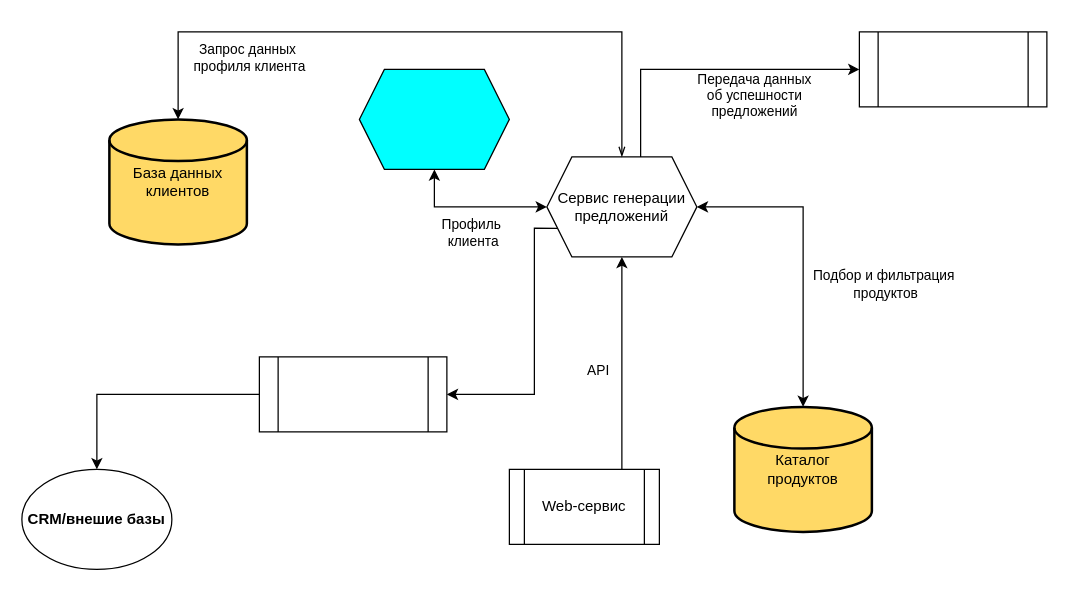
This 1069x591 diagram has some shape labels left out. The centre of each missing label's shape, as x and y in pixels:
"BI/Аналитика" belongs at (952,69).
"Интеграционный модуль" belongs at (352,394).
"Сервис ИИ (LLM-сервис)" belongs at (433,118).
